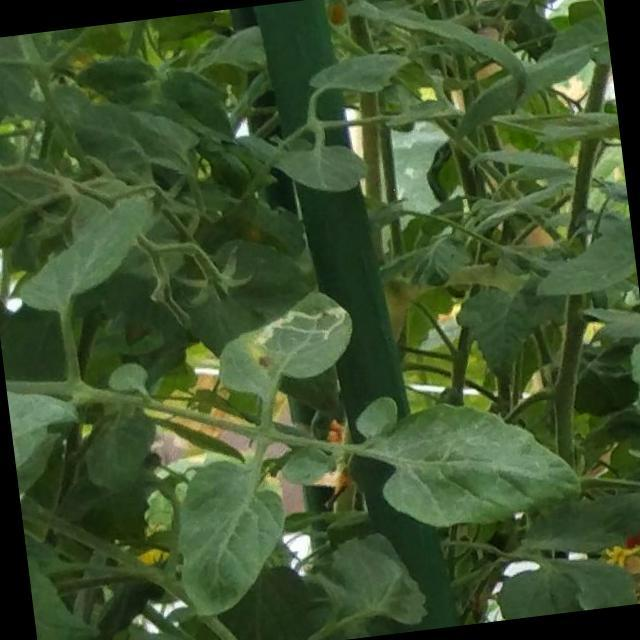Tomato target spot leaf: (209, 284, 358, 401)
